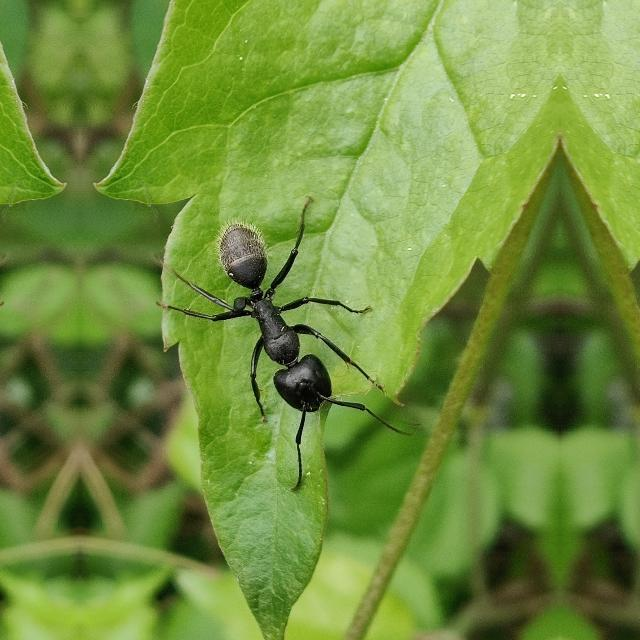Camponotus: (190, 219, 366, 475)
